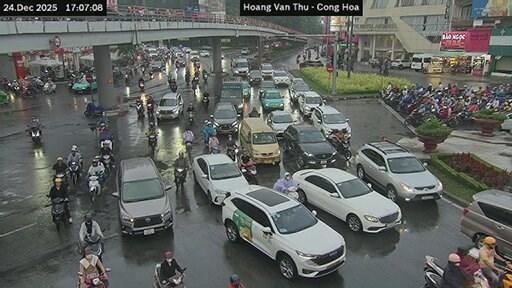motorbike: (153, 262, 185, 287), (77, 234, 102, 259), (423, 255, 442, 287), (51, 198, 66, 229), (330, 135, 350, 158), (240, 160, 256, 184), (284, 185, 304, 202), (89, 175, 101, 202), (422, 270, 441, 287), (472, 270, 489, 287), (83, 102, 102, 116), (173, 166, 185, 188), (67, 162, 79, 184), (86, 274, 105, 287), (102, 153, 112, 175), (147, 134, 156, 157), (29, 126, 39, 144), (54, 171, 67, 184), (41, 81, 54, 93), (227, 147, 237, 162), (135, 100, 143, 117), (185, 140, 191, 160), (147, 103, 153, 117), (202, 95, 208, 108), (192, 76, 198, 89), (67, 77, 73, 90), (169, 80, 176, 91), (188, 111, 194, 121), (210, 147, 220, 153), (138, 81, 144, 90), (124, 73, 128, 85), (202, 72, 207, 81), (185, 73, 188, 85), (149, 71, 153, 77), (77, 271, 80, 274), (182, 268, 185, 270), (77, 284, 79, 286)
